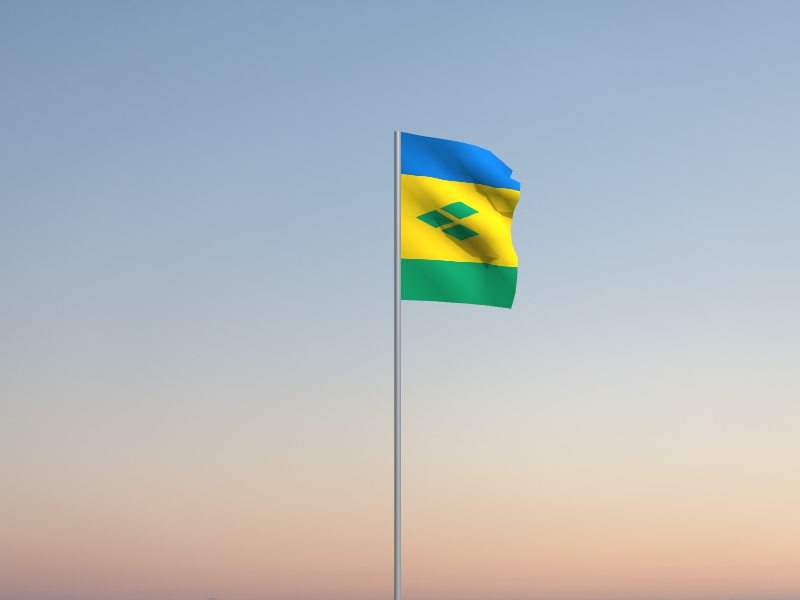vc: (400, 132, 522, 310)
